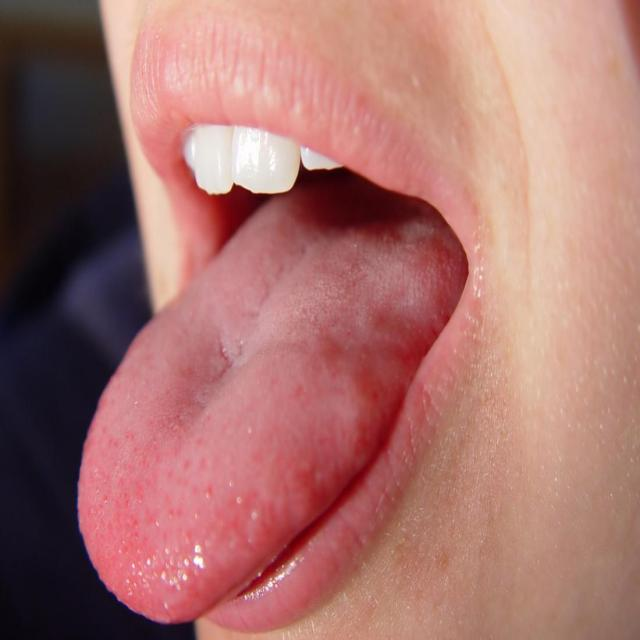No Cancer: (77, 197, 468, 627)
